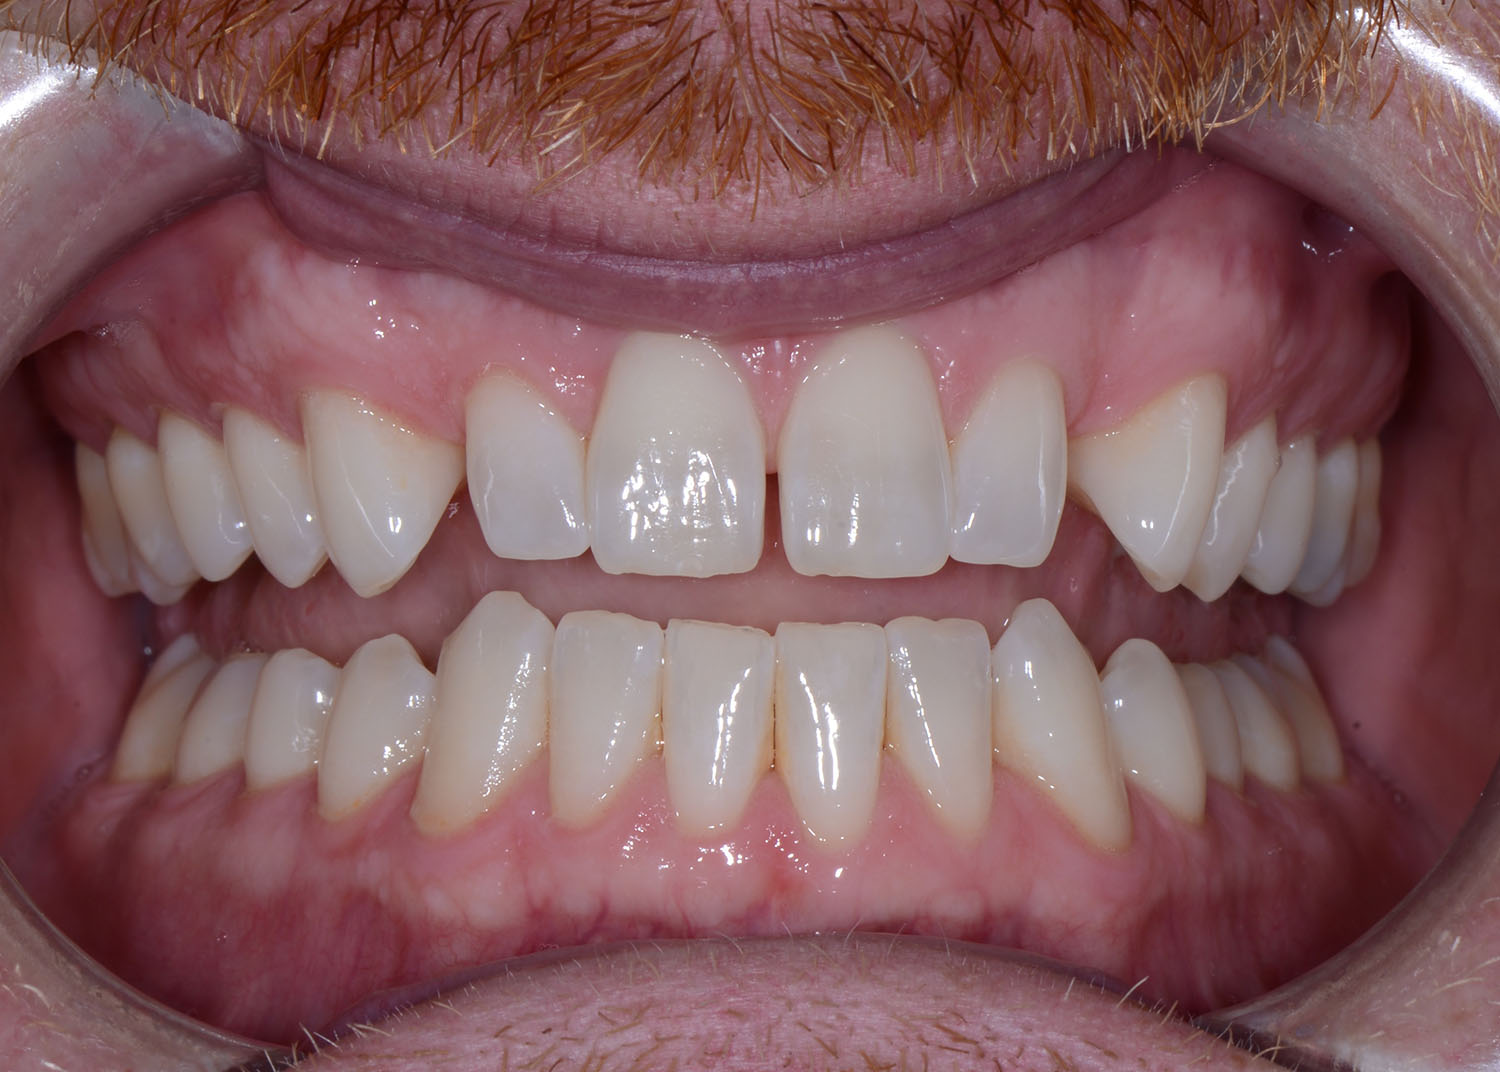LL1BC_healthy: (1101, 633, 1206, 830)
LL1M_healthy: (1224, 668, 1297, 802)
LL2BC_healthy: (1179, 665, 1240, 821)
LL2M_healthy: (1271, 645, 1353, 784)
LLCI_healthy: (771, 616, 889, 852)
LLC_healthy: (990, 600, 1129, 863)
LLLI_healthy: (885, 615, 997, 855)
LR1BC_healthy: (329, 636, 426, 816)
LR1M_healthy: (198, 650, 260, 805)
LR2BC_healthy: (261, 647, 336, 795)
LR2M_healthy: (130, 636, 195, 792)
LRCI_healthy: (658, 616, 776, 834)
LRC_healthy: (423, 589, 545, 842)
LRLI_healthy: (548, 610, 660, 831)
UL1BC_healthy: (1222, 419, 1276, 607)
UL1M_healthy: (1318, 452, 1356, 611)
UL2BC_healthy: (1277, 442, 1313, 608)
UL2M_healthy: (1360, 448, 1393, 595)
ULCI_healthy: (777, 329, 952, 581)
ULC_healthy: (1072, 374, 1227, 591)
ULLI_healthy: (951, 358, 1066, 568)
UR1BC_healthy: (222, 410, 329, 591)
UR1M_healthy: (106, 430, 190, 600)
UR2BC_healthy: (155, 411, 251, 586)
UR2M_healthy: (64, 442, 124, 600)
URCI_healthy: (592, 328, 763, 578)
URC_healthy: (300, 386, 463, 597)
URLI_healthy: (463, 369, 593, 566)
